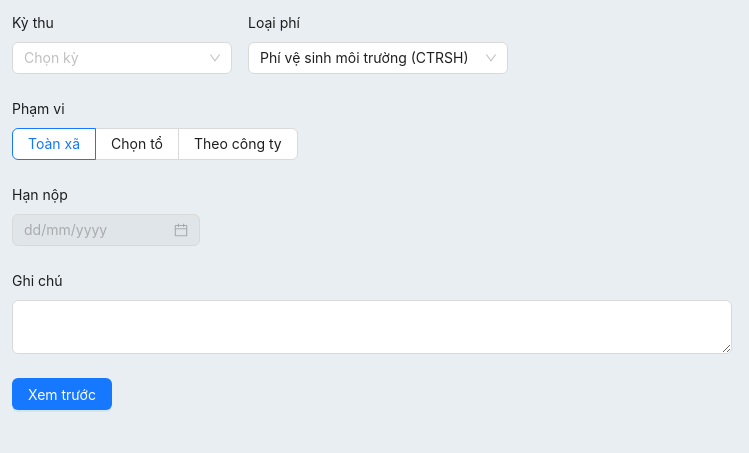
Scenario: ChargeRequestForm › phí giá cố định hiện ô đơn giá
This screenshot has width=749, height=453.
Press the mouse on the dropdown labelled "Loại phí" at (281, 23), box [248,12,314,34]
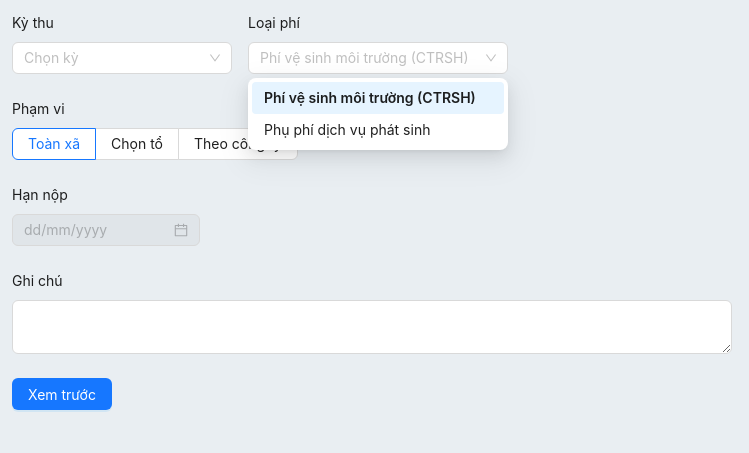
Click the element titled "Phụ phí dịch vụ phát sinh" at (347, 130), box [264,121,430,138]
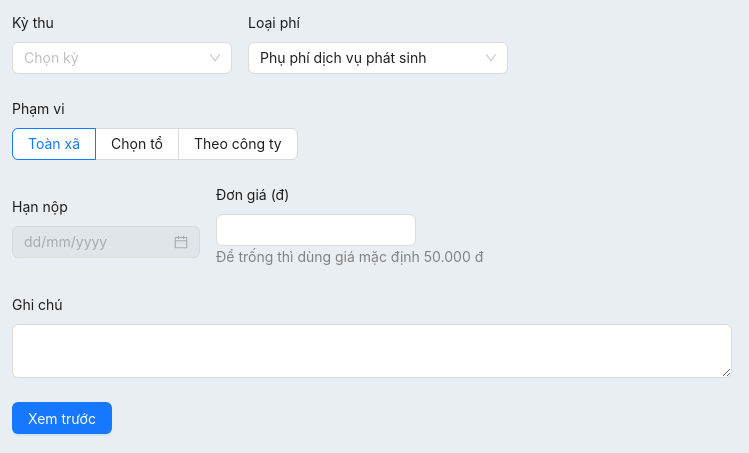
Expected: the number field labelled "Đơn giá" is shown, [217,215,415,245]
Expected: the text "Để trống thì dùng giá mặc định 50.000 đ" is shown, [216,246,483,270]
